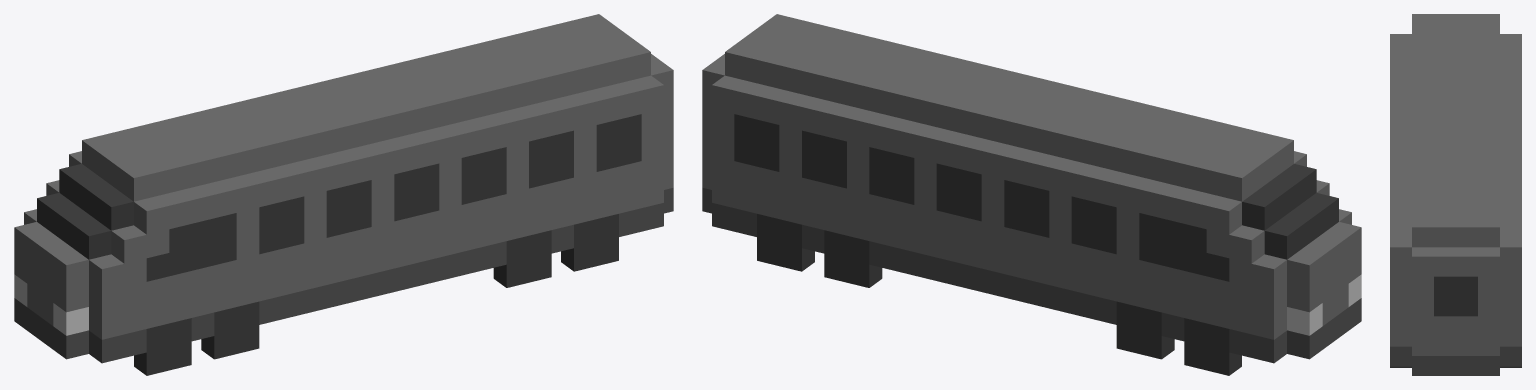
The model's file is train-v2-grey.gltf.
The picture shows the model from 3 angles, left to right: view 1: azimuth 30°, elevation 25°; view 2: azimuth 150°, elevation 25°; view 3: azimuth 270°, elevation 25°; orthographic projection. The views are drawn at different scales.
Parts seen in each view (by area): view 1: model, wheels; view 2: model, wheels; view 3: model.
Boxes of the visible parts, x1,y1,x2,y2 form: model: [14, 14, 673, 363]; wheels: [134, 214, 618, 375]; model: [702, 14, 1361, 363]; wheels: [757, 214, 1241, 375]; model: [1390, 14, 1521, 375].
Size of the model in its own units: 2.7 by 0.8 by 0.6.
Materials: 2 (2 with a texture image).
